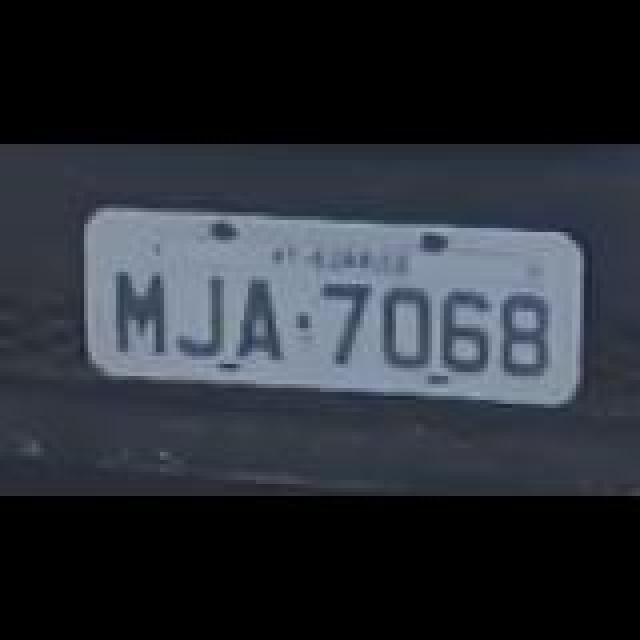6: (438, 290, 498, 374)
7: (316, 286, 380, 370)
8: (492, 296, 556, 384)
A: (228, 278, 292, 362)
D: (380, 286, 444, 370)
J: (176, 274, 232, 358)
M: (114, 272, 174, 360)
